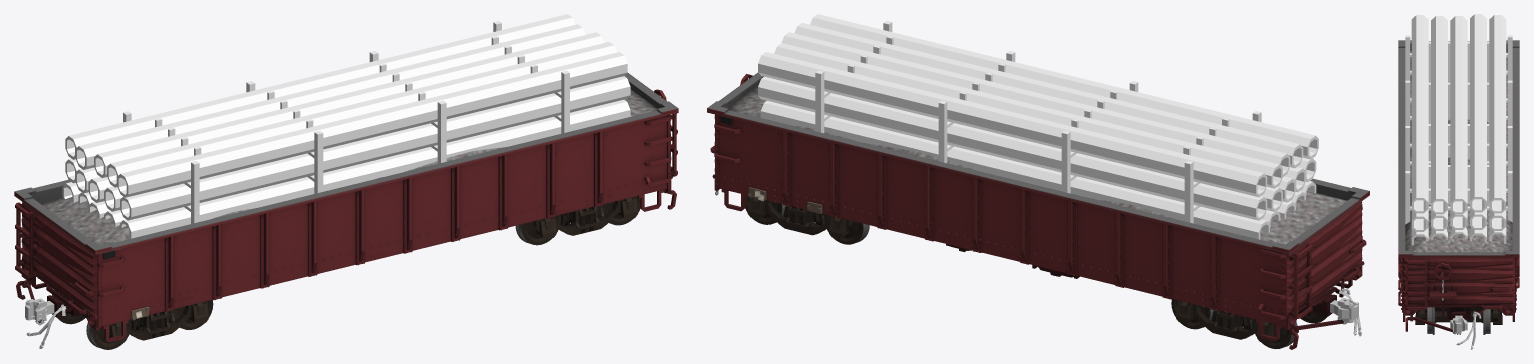
Rendered from aargondola.obj.
3 views of the same model, side by side, from view 1: azimuth 30°, elevation 25°; view 2: azimuth 150°, elevation 25°; view 3: azimuth 270°, elevation 25° (orthographic). The views are drawn at different scales.
Visible parts, largest first — view 1: Cube_Cube.002, CARGO_FILL_85.003_Cube.021, CARGO_FILL_60.001_Cube.508, CARGO_FILL_40.002_Cube.488, SHELL_extra.008_Cube.062, CARGO_FILL_95_Plane, CARGO_FILL_1.009_Cube.017, BOGEY_REAR.002_Cube.012, BOGEY_FRONT.002_Cube.016, Cube.020_Cube.038, BOGEY_FRONT_WHEEL_1.004_Circle.014, BOGEY_REAR_WHEEL_1.002_Circle.013; view 2: Cube_Cube.002, CARGO_FILL_85.003_Cube.021, CARGO_FILL_60.001_Cube.508, CARGO_FILL_40.002_Cube.488, CARGO_FILL_95_Plane, CARGO_FILL_1.009_Cube.017, SHELL_extra.008_Cube.062, BOGEY_REAR.002_Cube.012, BOGEY_FRONT.002_Cube.016, Cube.020_Cube.038, BOGEY_FRONT_WHEEL_1.004_Circle.014, BOGEY_REAR_WHEEL_1.002_Circle.013; view 3: CARGO_FILL_85.003_Cube.021, Cube_Cube.002, CARGO_FILL_95_Plane, CARGO_FILL_60.001_Cube.508, CARGO_FILL_1.009_Cube.017, SHELL_extra.008_Cube.062, CARGO_FILL_40.002_Cube.488, BOGEY_REAR_WHEEL_2.002_Circle.013, BOGEY_REAR.002_Cube.012, FRAME.003_Cube.1039, Cube.027_Cube.1030, INDEPENDENT_BRAKE_1_LABEL_Brake^Wheel_Cube.056 (+3 smaller).
Boxes of the visible parts, x1=… form: Cube_Cube.002: x1=14, y1=72, x2=678, y2=330; CARGO_FILL_85.003_Cube.021: x1=65, y1=14, x2=627, y2=197; CARGO_FILL_60.001_Cube.508: x1=65, y1=76, x2=630, y2=220; CARGO_FILL_40.002_Cube.488: x1=62, y1=99, x2=630, y2=238; SHELL_extra.008_Cube.062: x1=15, y1=113, x2=677, y2=342; CARGO_FILL_95_Plane: x1=41, y1=89, x2=657, y2=244; CARGO_FILL_1.009_Cube.017: x1=123, y1=21, x2=569, y2=223; BOGEY_REAR.002_Cube.012: x1=533, y1=196, x2=637, y2=239; BOGEY_FRONT.002_Cube.016: x1=104, y1=301, x2=208, y2=344; Cube.020_Cube.038: x1=20, y1=115, x2=672, y2=325; BOGEY_FRONT_WHEEL_1.004_Circle.014: x1=52, y1=291, x2=131, y2=349; BOGEY_REAR_WHEEL_1.002_Circle.013: x1=515, y1=215, x2=560, y2=245; Cube_Cube.002: x1=707, y1=72, x2=1369, y2=329; CARGO_FILL_85.003_Cube.021: x1=758, y1=14, x2=1318, y2=197; CARGO_FILL_60.001_Cube.508: x1=758, y1=76, x2=1316, y2=220; CARGO_FILL_40.002_Cube.488: x1=760, y1=101, x2=1316, y2=239; CARGO_FILL_95_Plane: x1=729, y1=87, x2=1346, y2=244; CARGO_FILL_1.009_Cube.017: x1=815, y1=21, x2=1261, y2=223; SHELL_extra.008_Cube.062: x1=710, y1=124, x2=1366, y2=341; BOGEY_REAR.002_Cube.012: x1=747, y1=197, x2=852, y2=239; BOGEY_FRONT.002_Cube.016: x1=1176, y1=300, x2=1280, y2=343; Cube.020_Cube.038: x1=712, y1=114, x2=1364, y2=324; BOGEY_FRONT_WHEEL_1.004_Circle.014: x1=1252, y1=290, x2=1332, y2=348; BOGEY_REAR_WHEEL_1.002_Circle.013: x1=824, y1=214, x2=869, y2=244; CARGO_FILL_85.003_Cube.021: x1=1410, y1=14, x2=1507, y2=214; Cube_Cube.002: x1=1398, y1=40, x2=1519, y2=315; CARGO_FILL_95_Plane: x1=1405, y1=50, x2=1512, y2=252; CARGO_FILL_60.001_Cube.508: x1=1410, y1=61, x2=1507, y2=231; CARGO_FILL_1.009_Cube.017: x1=1405, y1=35, x2=1512, y2=224; SHELL_extra.008_Cube.062: x1=1398, y1=257, x2=1519, y2=321; CARGO_FILL_40.002_Cube.488: x1=1411, y1=79, x2=1506, y2=244; BOGEY_REAR_WHEEL_2.002_Circle.013: x1=1425, y1=307, x2=1492, y2=334; BOGEY_REAR.002_Cube.012: x1=1415, y1=307, x2=1502, y2=324; FRAME.003_Cube.1039: x1=1447, y1=307, x2=1470, y2=319; Cube.027_Cube.1030: x1=1429, y1=285, x2=1456, y2=303; INDEPENDENT_BRAKE_1_LABEL_Brake^Wheel_Cube.056: x1=1434, y1=263, x2=1452, y2=280.
Bounding box in the file's own units: 14.25 × 3.84 × 3.13.
